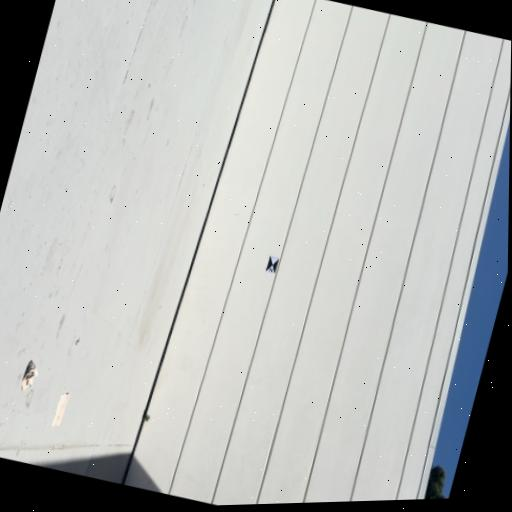target7: (266, 256, 279, 274)
